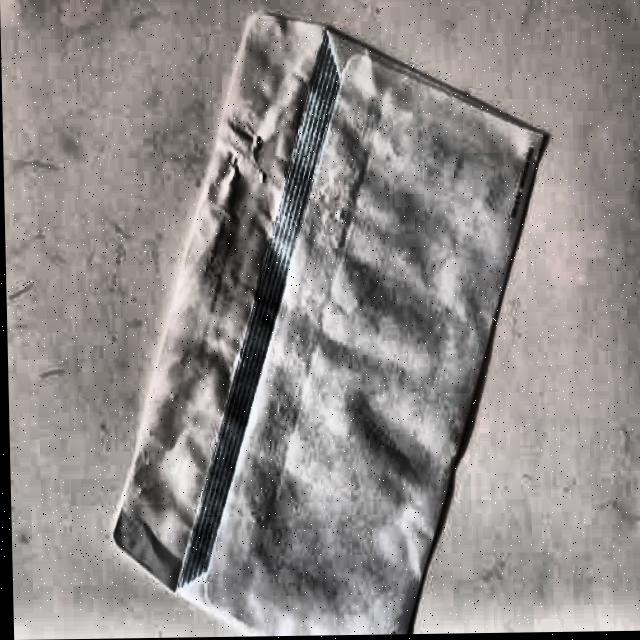paper: (101, 9, 560, 639)
